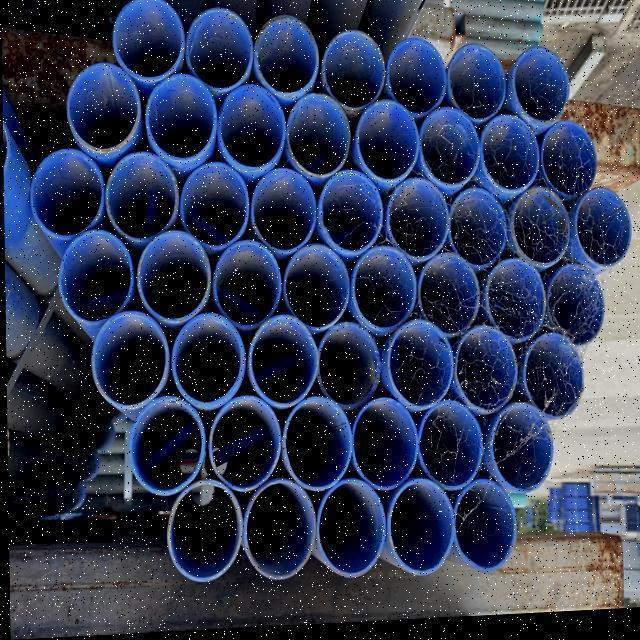pipe: (162, 480, 243, 584), (233, 481, 315, 583), (122, 393, 202, 495), (89, 308, 170, 408), (50, 232, 134, 327), (311, 481, 387, 582), (443, 478, 522, 572), (133, 230, 211, 323), (383, 475, 453, 577), (280, 397, 351, 497), (176, 162, 257, 249), (29, 145, 104, 238), (169, 312, 244, 404), (206, 398, 277, 495), (347, 397, 418, 493), (381, 322, 455, 413), (105, 151, 178, 241), (247, 316, 317, 409), (146, 76, 218, 166), (406, 253, 475, 346), (211, 241, 283, 328), (67, 64, 139, 151), (487, 406, 554, 499), (314, 172, 385, 258), (112, 0, 185, 82), (281, 246, 349, 334), (347, 247, 418, 331), (315, 322, 381, 412), (248, 167, 314, 256), (452, 326, 517, 416), (417, 404, 483, 492), (218, 86, 286, 170), (519, 335, 582, 425), (186, 10, 256, 91), (354, 95, 418, 182), (285, 95, 350, 180), (253, 16, 320, 97), (420, 109, 483, 194), (319, 32, 385, 111), (507, 189, 569, 273), (483, 261, 544, 346), (384, 178, 447, 260), (476, 117, 537, 199), (386, 41, 447, 123), (574, 190, 631, 277), (447, 191, 507, 273), (446, 48, 507, 128), (546, 267, 604, 350), (508, 47, 567, 125), (541, 125, 597, 207)
